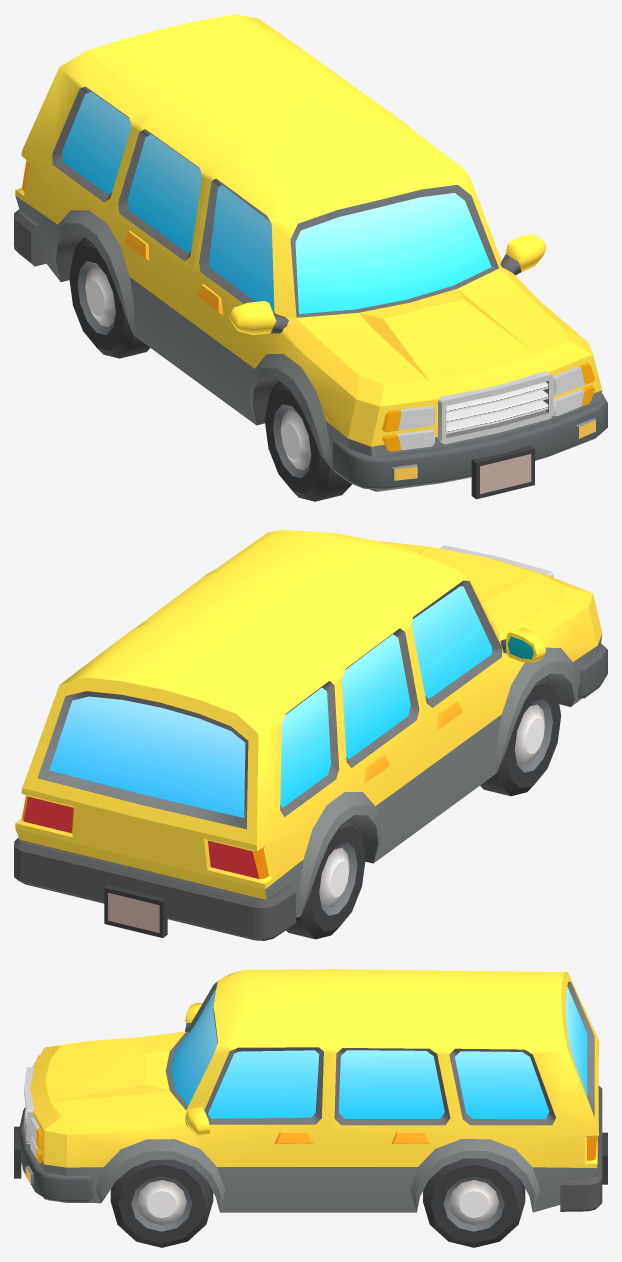
The model's file is city2-car-08.glb.
3 views of the same model, one above another, from view 1: azimuth 30°, elevation 25°; view 2: azimuth 150°, elevation 25°; view 3: azimuth 270°, elevation 25° (orthographic). The views are drawn at different scales.
Visible parts, largest first — view 1: Cylinder.037, Wheel_037, Wheel_038; view 2: Cylinder.037, Wheel_038, Wheel_037; view 3: Cylinder.037, Wheel_040, Wheel_039.
Boxes of the visible parts, box(x1,y1,x2,y2) form: Cylinder.037: box(14, 14, 607, 499); Wheel_037: box(265, 381, 351, 501); Wheel_038: box(69, 237, 149, 358); Cylinder.037: box(14, 530, 607, 940); Wheel_038: box(286, 818, 365, 939); Wheel_037: box(480, 676, 561, 796); Cylinder.037: box(14, 969, 607, 1212); Wheel_040: box(423, 1158, 525, 1247); Wheel_039: box(110, 1159, 213, 1247).
Bounding box in the file's own units: 2.26 × 1.81 × 4.66.
Materials: 2 (2 with a texture image).
